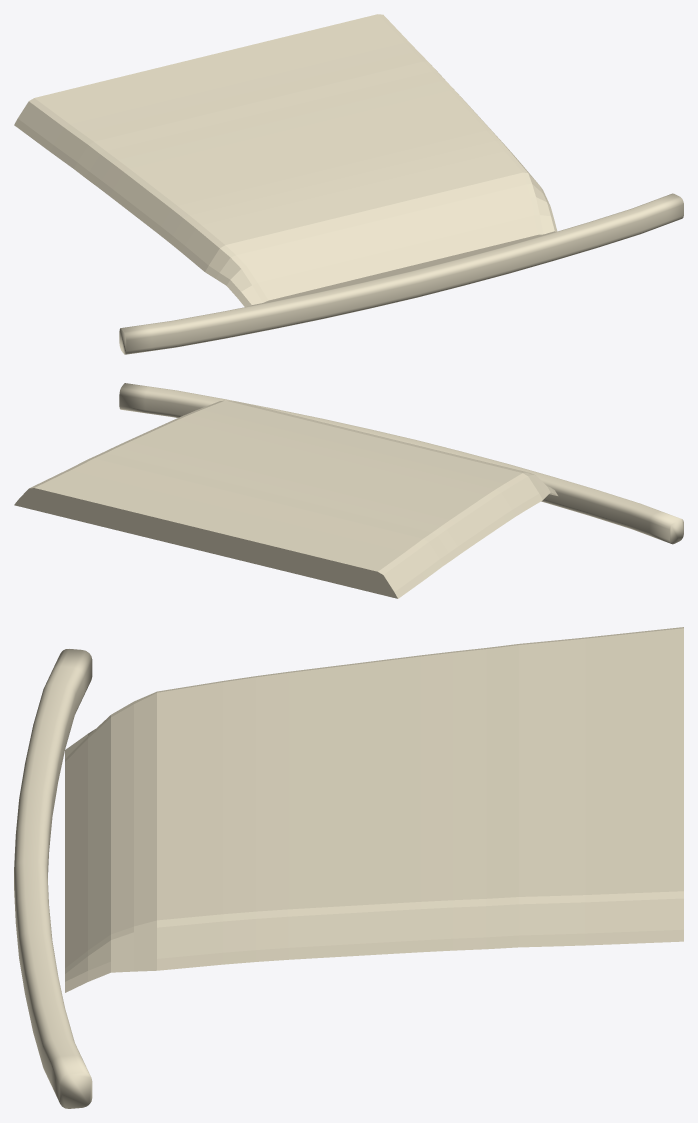
File: hood_damd_bonnet.glb
3 views of the same model, one above another, from view 1: azimuth 30°, elevation 25°; view 2: azimuth 150°, elevation 25°; view 3: azimuth 270°, elevation 25° (orthographic). The views are drawn at different scales.
Parts seen in each view (by area): view 1: dome.001, lip.006; view 2: dome.001, lip.006; view 3: dome.001, lip.006.
Boxes of the visible parts, x1,y1,x2,y2 form: dome.001: (14, 14, 557, 306); lip.006: (119, 193, 683, 354); dome.001: (14, 400, 557, 598); lip.006: (119, 383, 683, 544); dome.001: (65, 627, 683, 992); lip.006: (14, 649, 92, 1108).
Bounding box in the file's own units: 1.21 × 0.1802 × 0.801.
